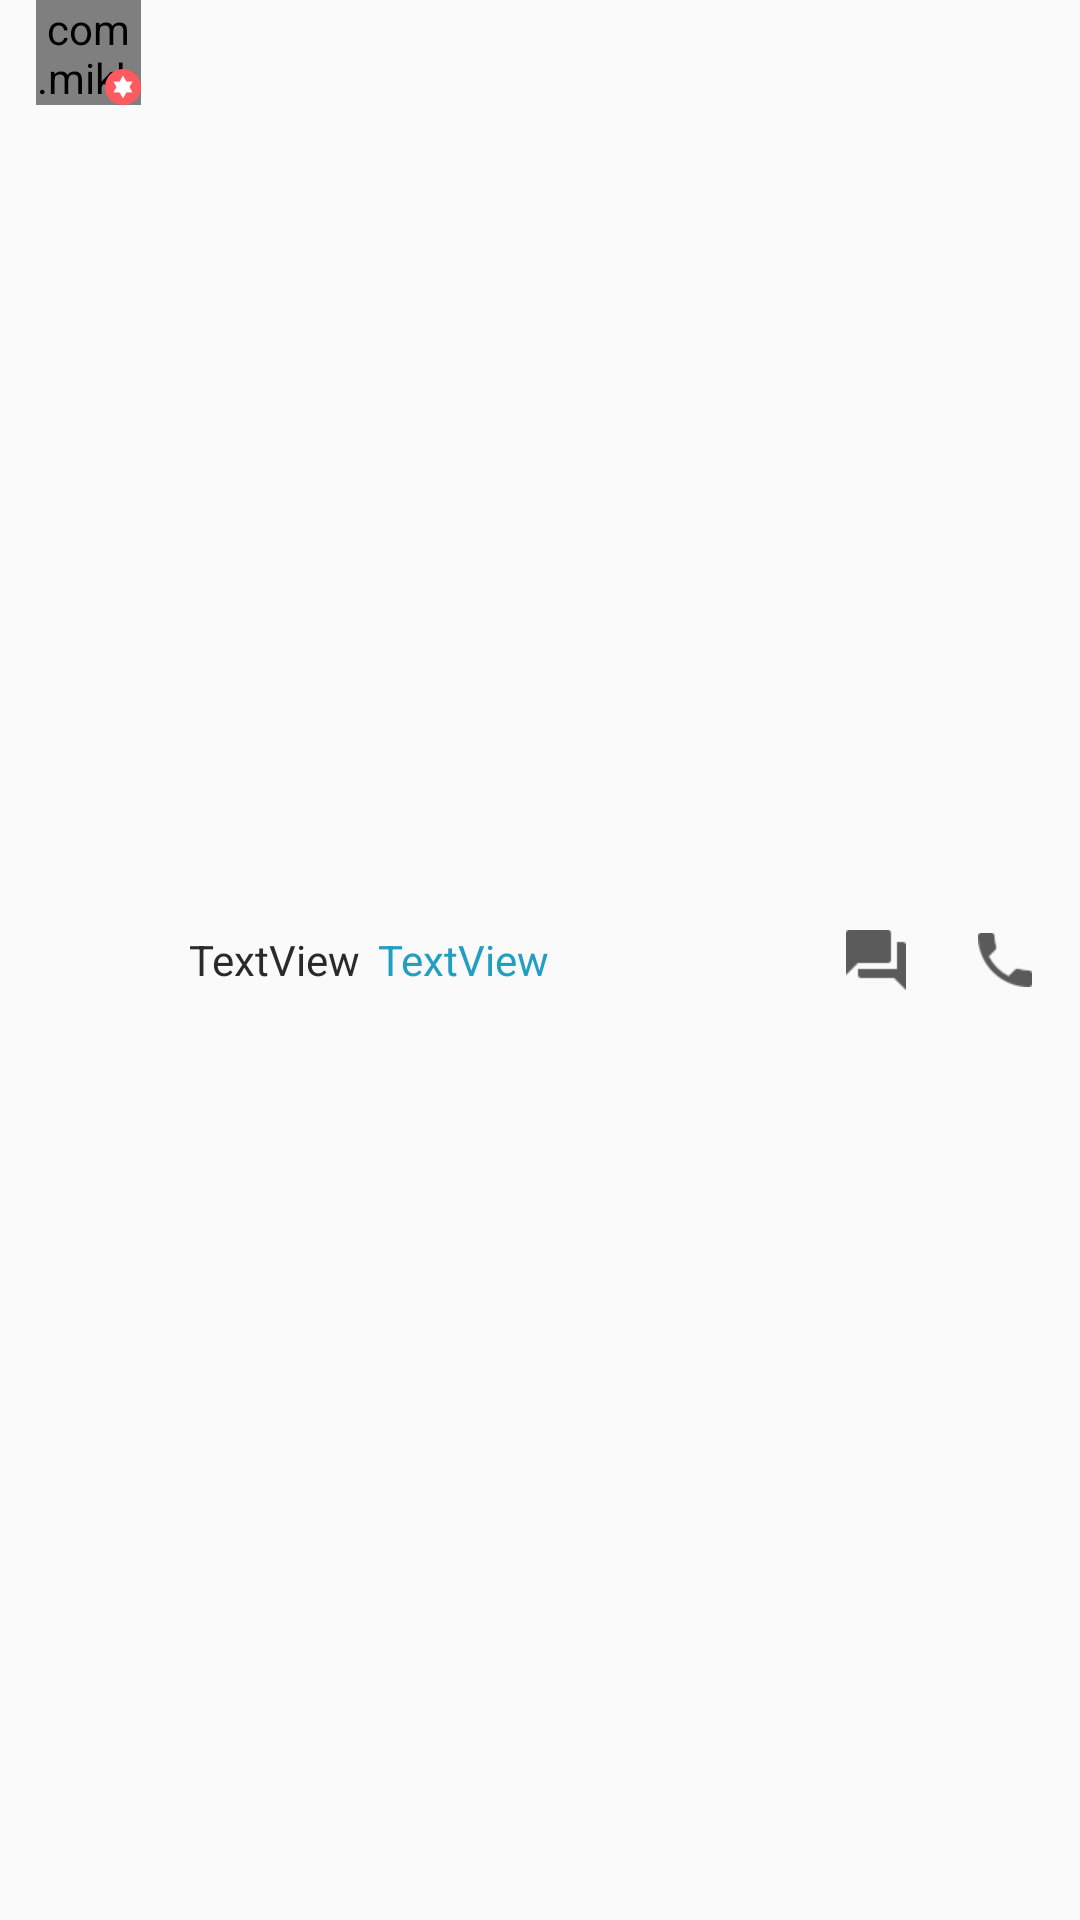

Point at icon controls on the screen. Image size 1080 × 1920, points as (x,y).
local phone: (1005,960)
seller badge: (123,87)
